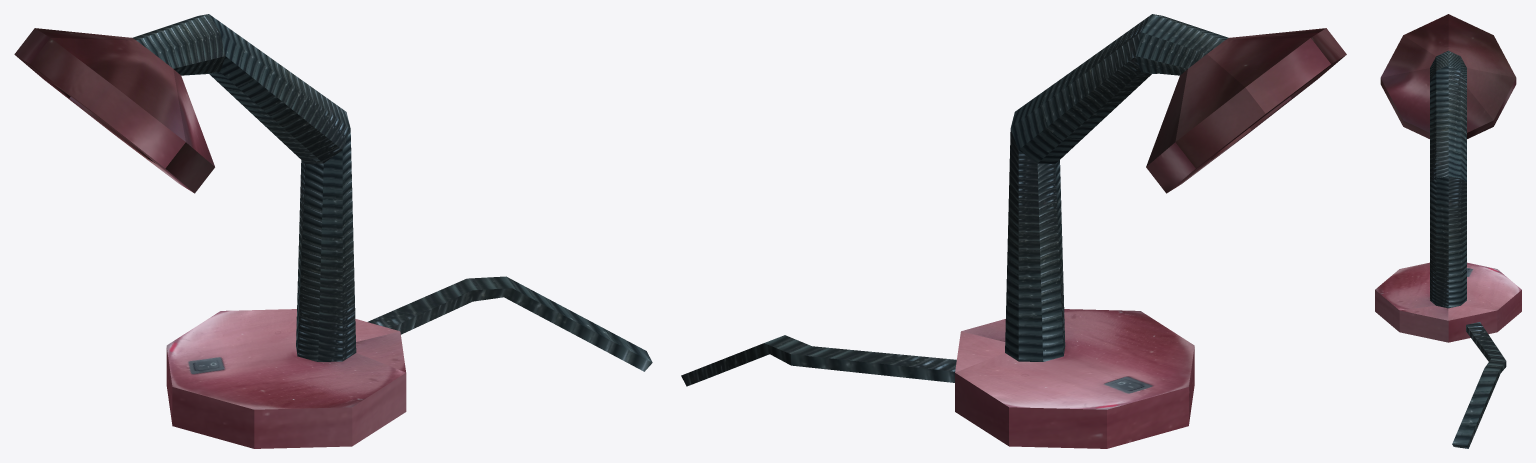
The model's file is MasaLambasi.fbx.
The picture shows the model from 3 angles, left to right: view 1: azimuth 30°, elevation 25°; view 2: azimuth 150°, elevation 25°; view 3: azimuth 270°, elevation 25°; orthographic projection. The views are drawn at different scales.
Visible parts, largest first — view 1: Cube; view 2: Cube; view 3: Cube.
Boxes of the visible parts, left/top/right/bottom form: Cube: left=14, top=14, right=652, bottom=448; Cube: left=681, top=14, right=1346, bottom=448; Cube: left=1375, top=14, right=1521, bottom=448.
Size of the model in its own units: 834 by 608 by 300.
